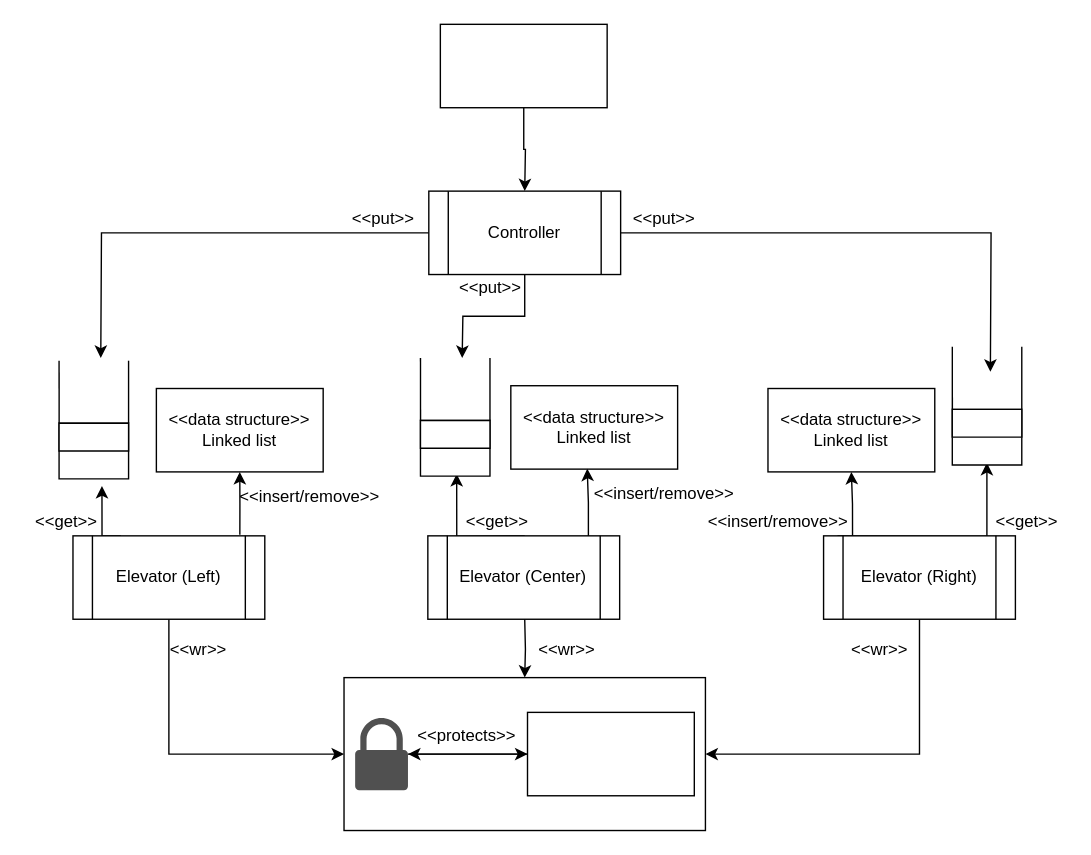
This 1091x855 diagram has some shape labels left out. Here are the shapes that lost their labels. From the top down, the box of each, then its label:
(439, 23, 607, 108): <<hw>> UART (in)
(526, 711, 694, 796): <<hw>> UART (out)
